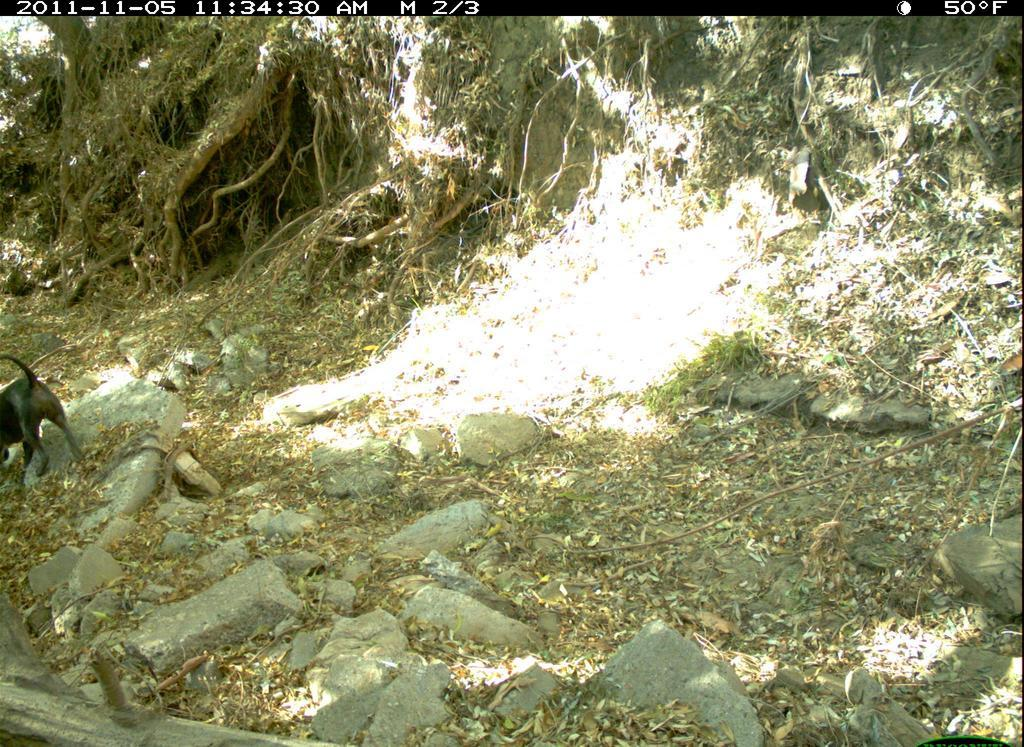dog: (2, 343, 91, 500)
